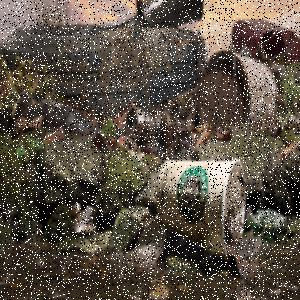Can: (127, 107, 155, 131)
Cup: (157, 159, 247, 261)
